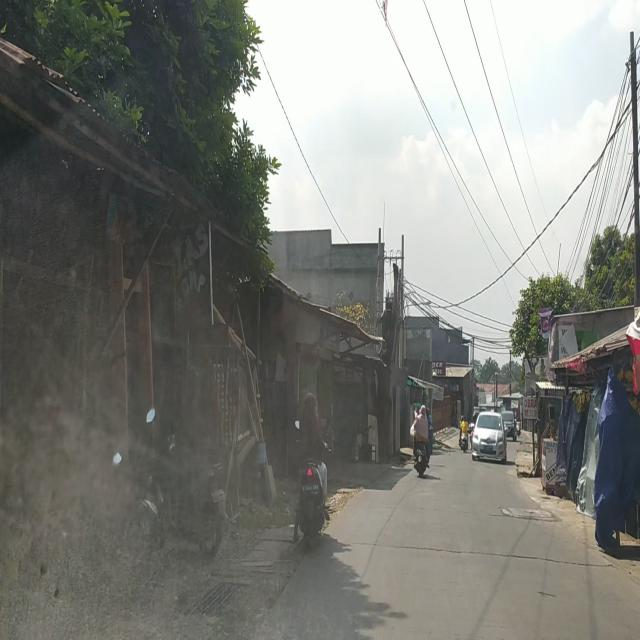Sewer Cover: (346, 539, 612, 568)
